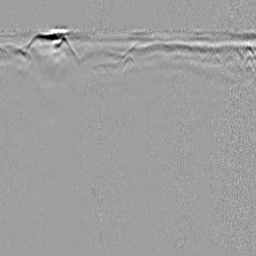cavity: (122, 51, 136, 66)
